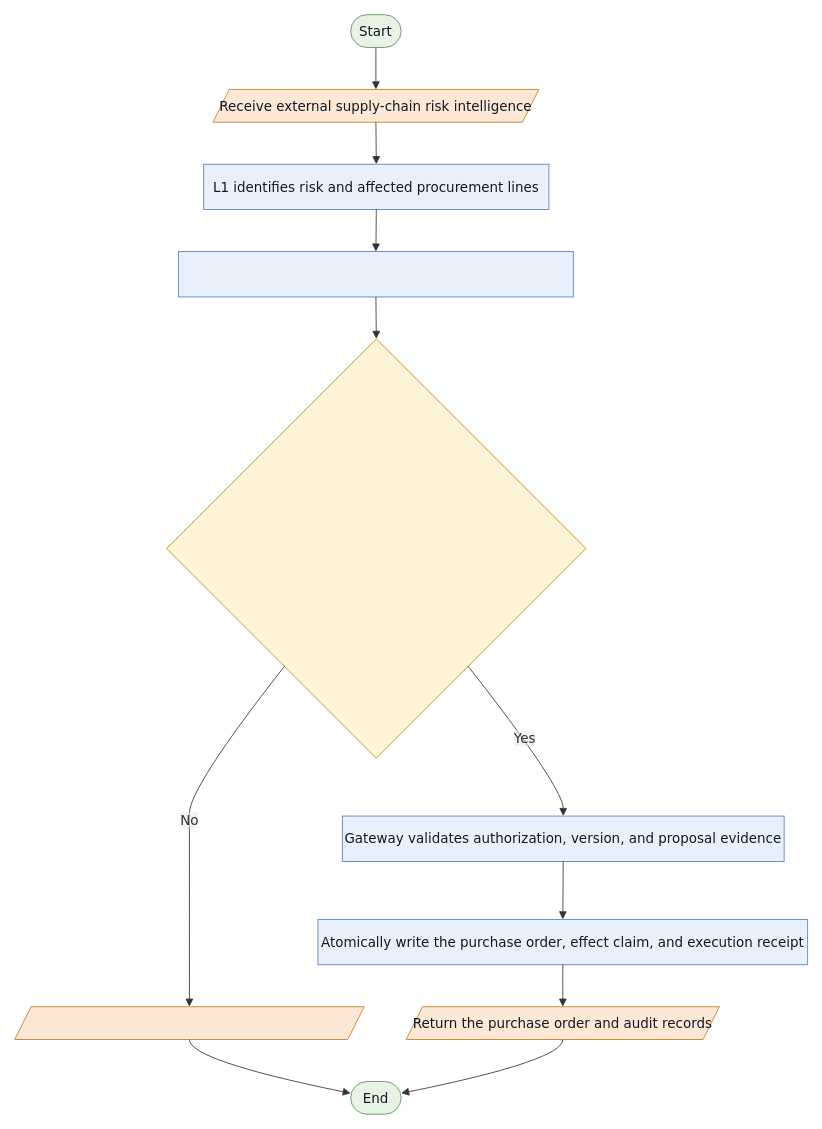
Some shapes in this 822 by 1129 pixel diagram are drawn without their labels. Each missing label, with the centre of its shape:
Does the supervisor approve the proposal?: (x=376, y=548)
L2 evaluates alternative suppliers and creates a proposal: (x=375, y=274)
Record the rejection reason; leave ERP unchanged: (x=189, y=1023)
